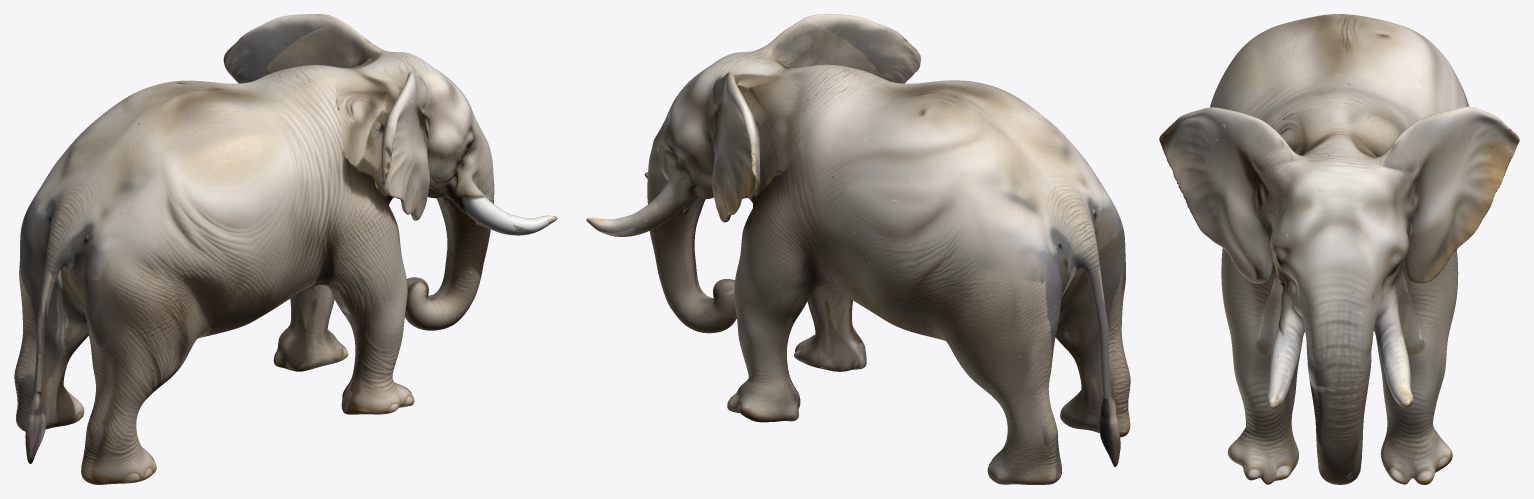
File: elefante.fbx
The picture shows the model from 3 angles, left to right: view 1: azimuth 30°, elevation 25°; view 2: azimuth 150°, elevation 25°; view 3: azimuth 270°, elevation 25°; orthographic projection. The views are drawn at different scales.
Parts seen in each view (by area): view 1: Mesh_0; view 2: Mesh_0; view 3: Mesh_0.
Part boxes in pixels (x1=…): Mesh_0: x1=14, y1=14, x2=557, y2=484; Mesh_0: x1=586, y1=14, x2=1130, y2=484; Mesh_0: x1=1159, y1=14, x2=1519, y2=484.
Size of the model in its own units: 201 by 129 by 114.
Materials: 1 (1 with a texture image).
